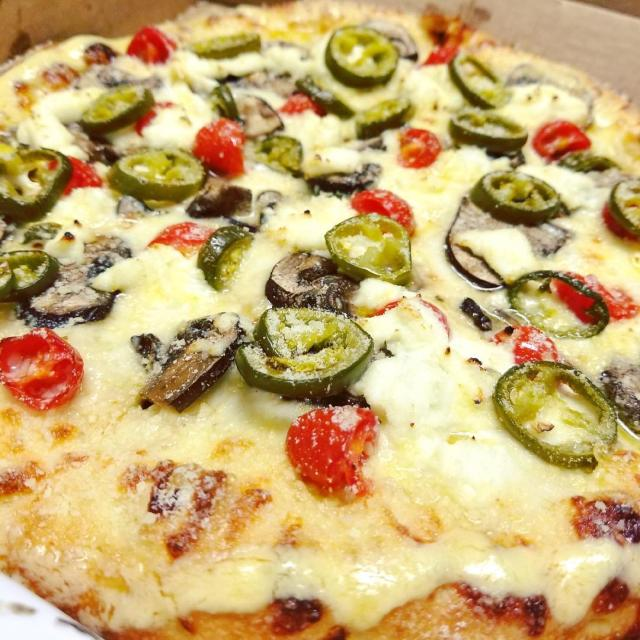pizza: (0, 0, 640, 640)
tomatoes: (272, 400, 389, 503), (0, 320, 90, 410), (553, 265, 639, 329), (377, 286, 452, 340), (479, 320, 559, 367), (340, 184, 417, 230), (34, 144, 102, 196), (187, 117, 244, 177), (526, 116, 594, 164), (118, 100, 178, 147), (592, 190, 638, 248), (123, 26, 183, 66), (142, 218, 216, 250), (393, 127, 443, 169), (268, 86, 318, 118), (421, 39, 458, 69)
